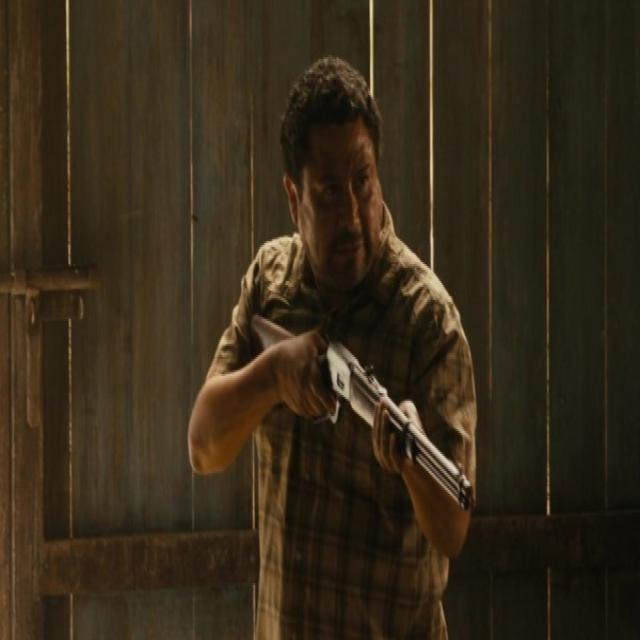rifle: (241, 312, 483, 524)
